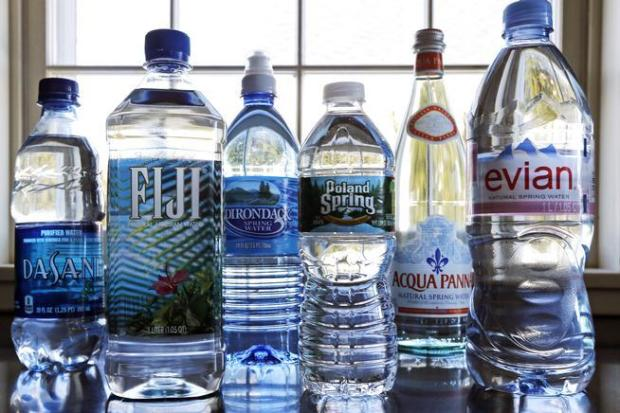bottle: (397, 25, 476, 364)
plastic_bottle: (466, 1, 612, 399), (103, 27, 226, 404), (303, 77, 400, 399), (7, 74, 107, 377), (223, 44, 308, 399)
